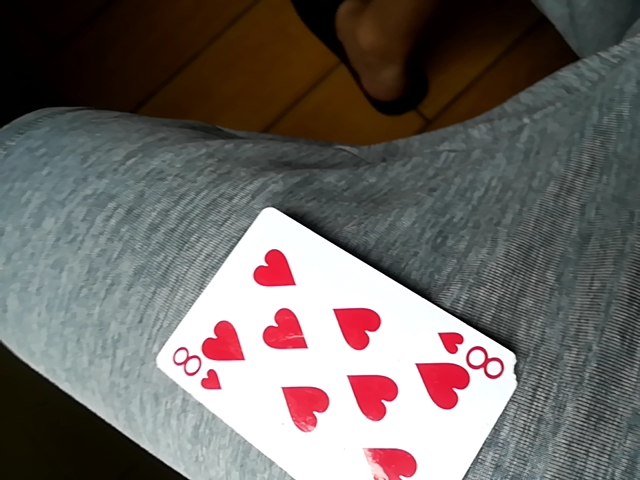hx 8: (159, 203, 518, 478)
